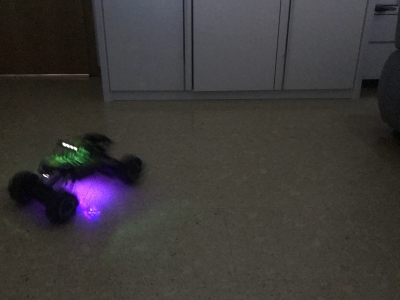remote control car: (7, 127, 144, 226)
